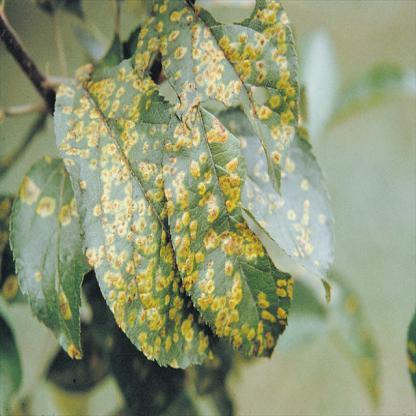Apple rust leaf: (51, 55, 212, 372), (162, 94, 302, 368), (8, 148, 91, 371)
